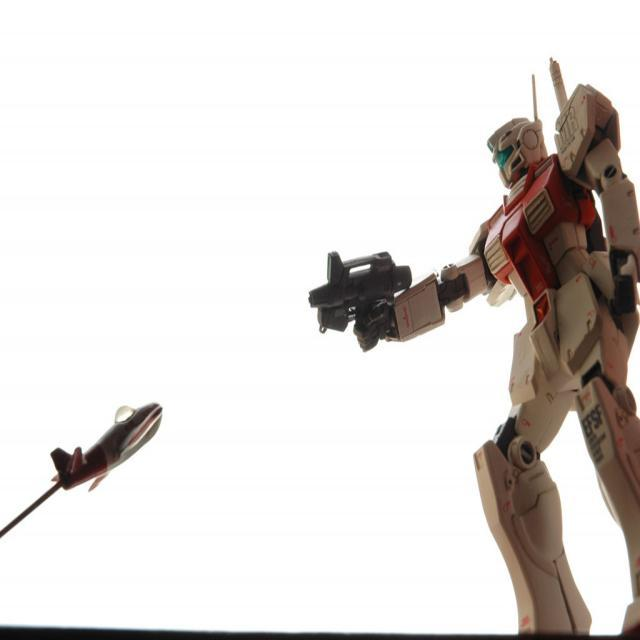weapon: (308, 247, 414, 350)
